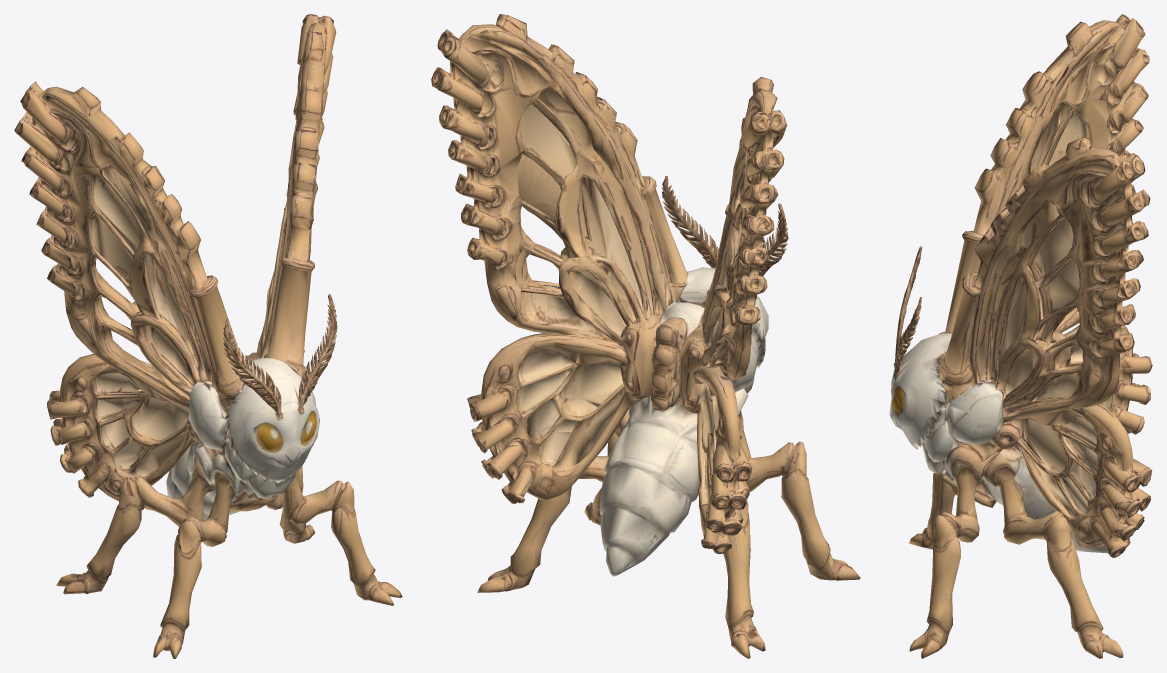
3 renders of one model, left to right at view 1: azimuth 30°, elevation 25°; view 2: azimuth 150°, elevation 25°; view 3: azimuth 270°, elevation 25°, orthographic. The views are drawn at different scales.
Visible parts, largest first — view 1: Mesh_0; view 2: Mesh_0; view 3: Mesh_0.
Part boxes in pixels (bbox=[...]): Mesh_0: bbox=[14, 14, 402, 658]; Mesh_0: bbox=[431, 14, 860, 658]; Mesh_0: bbox=[889, 14, 1152, 658].
Bounding box in the file's own units: 1.24 × 1.9 × 0.8781.
Materials: 1 (1 with a texture image).
